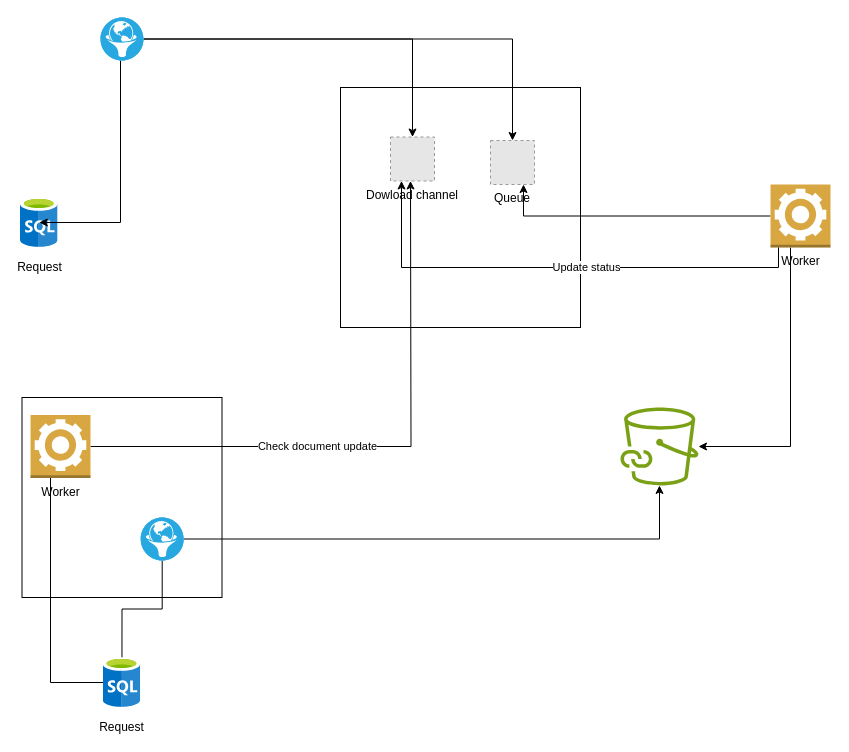
Some shapes in this 849 by 752 pixel diagram are drawn without their labels. Grey dashed boxes stand in for pictures. The shapes that lost their labels are listed below. From the top down, each one's centre as x and y in pixels, then its label:
At pixel 122 38: "POST nf/request".
At pixel 162 538: "POST nf/download/uuid".
